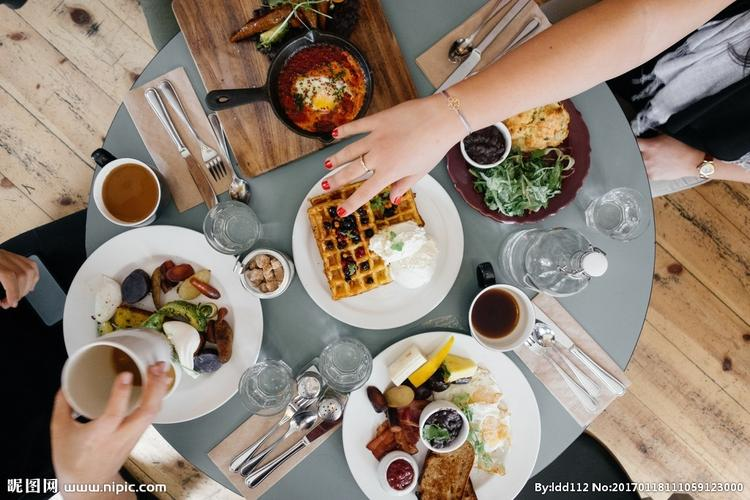food: (65, 222, 249, 396), (345, 335, 534, 485), (294, 164, 460, 309), (448, 91, 595, 223), (270, 22, 376, 137)
